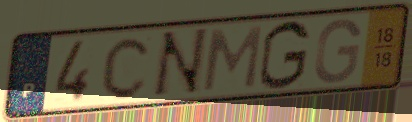4: (52, 37, 93, 105)
C: (99, 34, 155, 101)
G: (256, 18, 312, 92), (311, 16, 363, 86)
M: (199, 24, 265, 94)
N: (148, 25, 211, 101)
